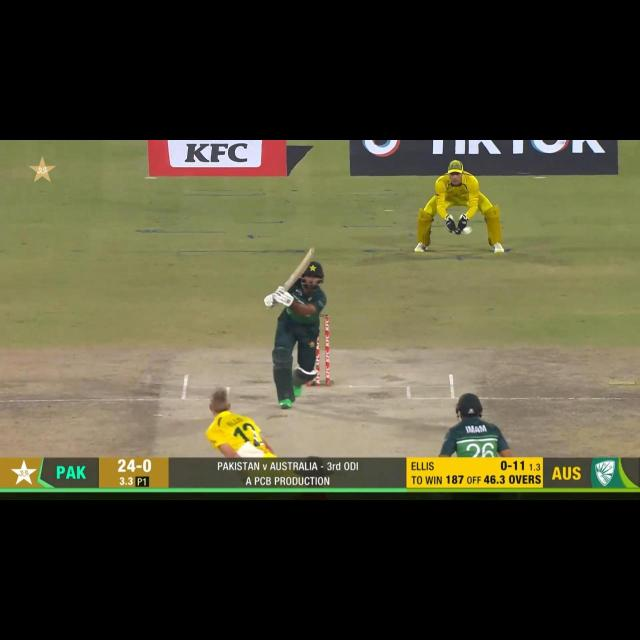bat: (281, 247, 314, 292)
toe: (302, 245, 318, 260)
